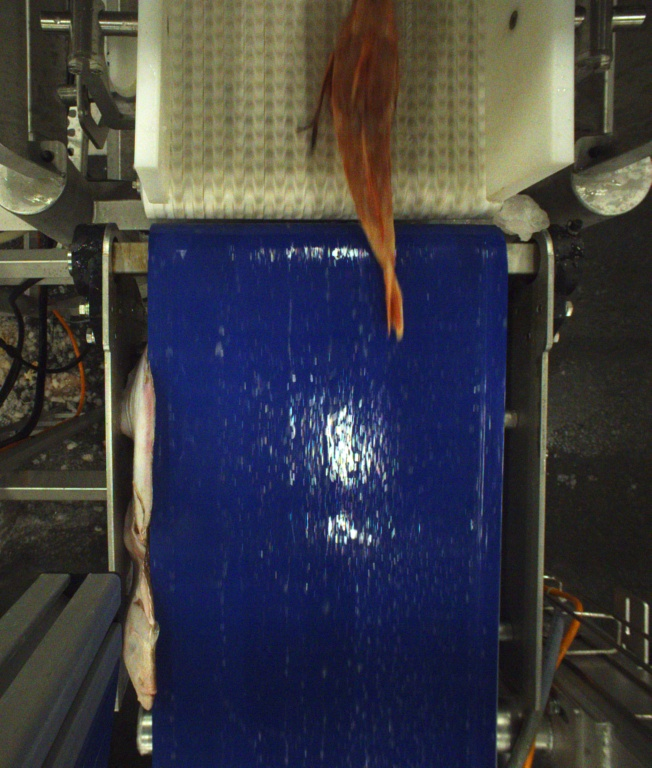GUU: (304, 0, 407, 339)
